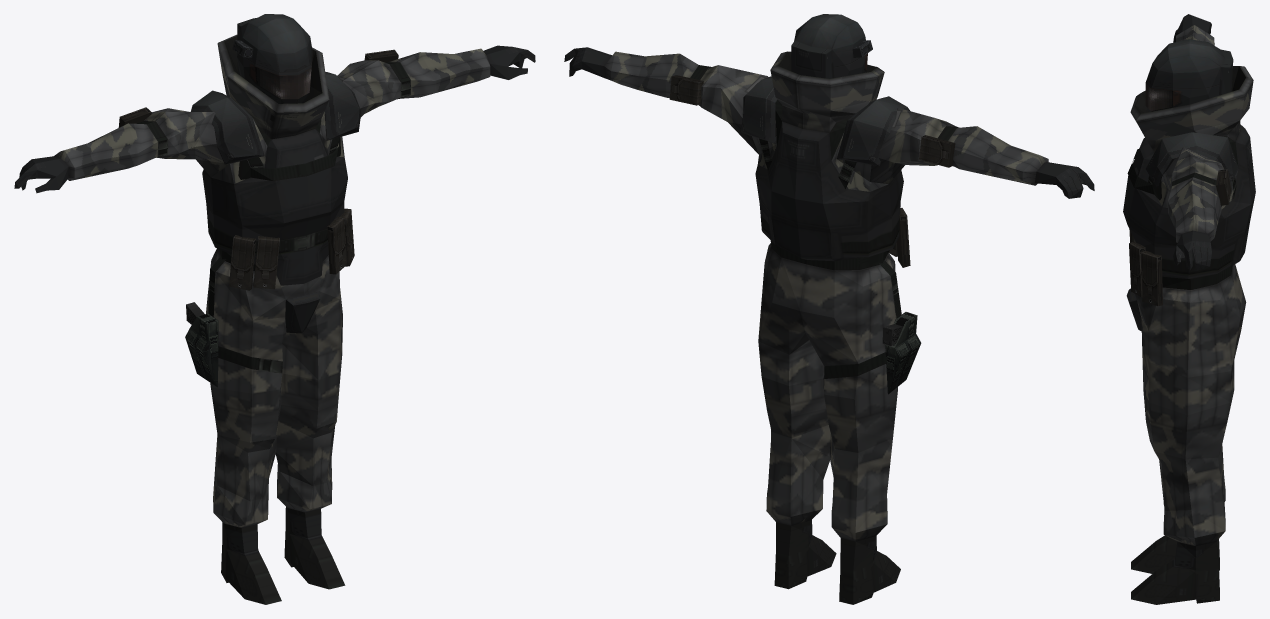
The model's file is High-Tech.obj.
3 views of the same model, side by side, from view 1: azimuth 30°, elevation 25°; view 2: azimuth 150°, elevation 25°; view 3: azimuth 270°, elevation 25° (orthographic). The views are drawn at different scales.
Parts seen in each view (by area): view 1: Regroup184, Regroup187, Regroup199, Regroup183, Regroup186, Regroup194, Tex_1349_0.dds, Regroup197, Regroup198, Regroup191, Tex_1304_0.dds, Tex_1354_0.dds (+2 smaller); view 2: Regroup184, Regroup187, Regroup193, Regroup183, Regroup197, Regroup186, Regroup198, Tex_1349_0.dds, Regroup194, Regroup191, Tex_1304_0.dds, Tex_1350_0.dds (+1 smaller); view 3: Regroup184, Regroup183, Regroup187, Regroup197, Tex_1349_0.dds, Regroup199, Regroup193, Regroup186, Regroup194, Regroup198, Regroup191, Tex_1354_0.dds (+3 smaller).
Part boxes in pixels (bbox=[...]): Regroup184: bbox=[206, 248, 342, 527]; Regroup187: bbox=[54, 48, 490, 183]; Regroup199: bbox=[211, 129, 347, 285]; Regroup183: bbox=[221, 507, 345, 604]; Regroup186: bbox=[190, 72, 361, 164]; Regroup194: bbox=[118, 49, 398, 290]; Tex_1349_0.dds: bbox=[237, 14, 312, 103]; Regroup197: bbox=[217, 34, 329, 139]; Regroup198: bbox=[136, 62, 410, 373]; Regroup191: bbox=[14, 45, 535, 193]; Tex_1304_0.dds: bbox=[185, 313, 218, 387]; Tex_1354_0.dds: bbox=[255, 56, 312, 99]; Regroup184: bbox=[758, 243, 897, 541]; Regroup187: bbox=[604, 51, 1048, 191]; Regroup193: bbox=[755, 121, 892, 261]; Regroup183: bbox=[774, 520, 900, 604]; Regroup197: bbox=[770, 51, 884, 132]; Regroup186: bbox=[740, 76, 910, 166]; Regroup198: bbox=[690, 65, 958, 378]; Tex_1349_0.dds: bbox=[791, 14, 867, 77]; Regroup194: bbox=[669, 75, 955, 267]; Regroup191: bbox=[564, 47, 1094, 198]; Tex_1304_0.dds: bbox=[885, 312, 921, 394]; Tex_1350_0.dds: bbox=[791, 40, 834, 78]; Regroup184: bbox=[1135, 264, 1246, 545]; Regroup183: bbox=[1131, 535, 1219, 604]; Regroup187: bbox=[1153, 25, 1237, 242]; Regroup197: bbox=[1130, 66, 1253, 152]; Tex_1349_0.dds: bbox=[1145, 39, 1224, 111]; Regroup199: bbox=[1123, 138, 1188, 278]; Regroup193: bbox=[1188, 124, 1255, 279]; Regroup186: bbox=[1146, 132, 1238, 188]; Regroup194: bbox=[1129, 169, 1231, 305]; Regroup198: bbox=[1127, 136, 1238, 289]; Regroup191: bbox=[1173, 14, 1211, 271]; Tex_1354_0.dds: bbox=[1145, 83, 1172, 111].
Size of the model in its own units: 16.44 by 16.76 by 3.75.
Materials: 22 (22 with a texture image).
